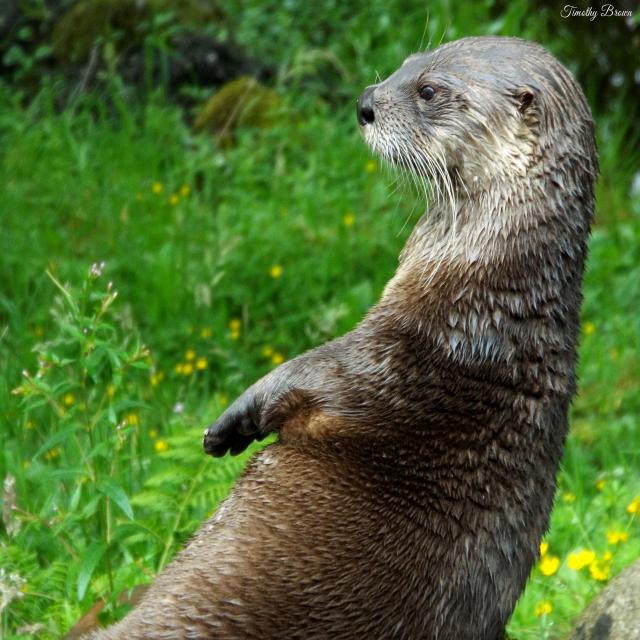otter: (203, 38, 595, 640)
